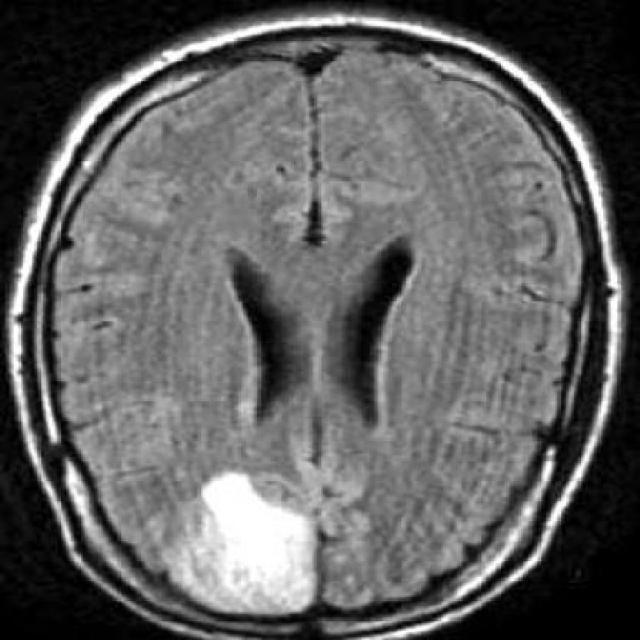Tumor: (194, 485, 303, 593)
